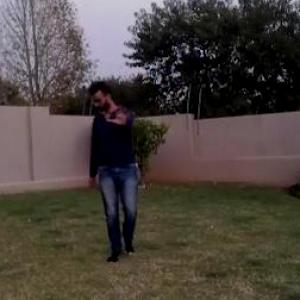follow_hand: (105, 98, 133, 126)
